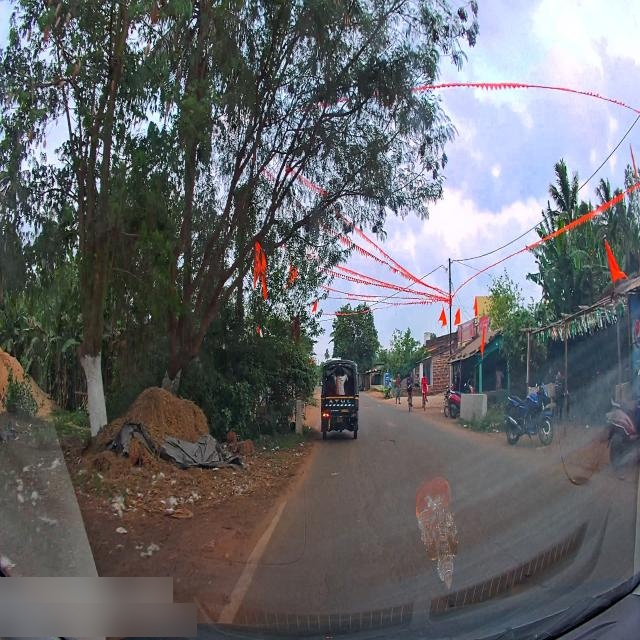pothole: (380, 435, 395, 447)
